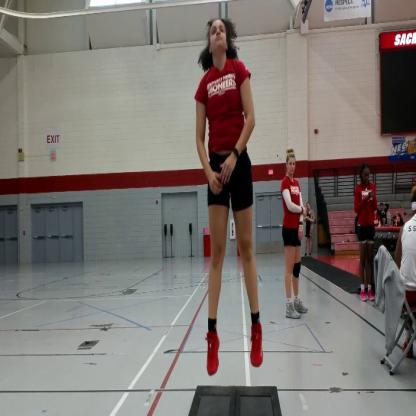lateral_flexion_right: (194, 16, 265, 376)
stance_width_normal: (194, 57, 265, 378)
